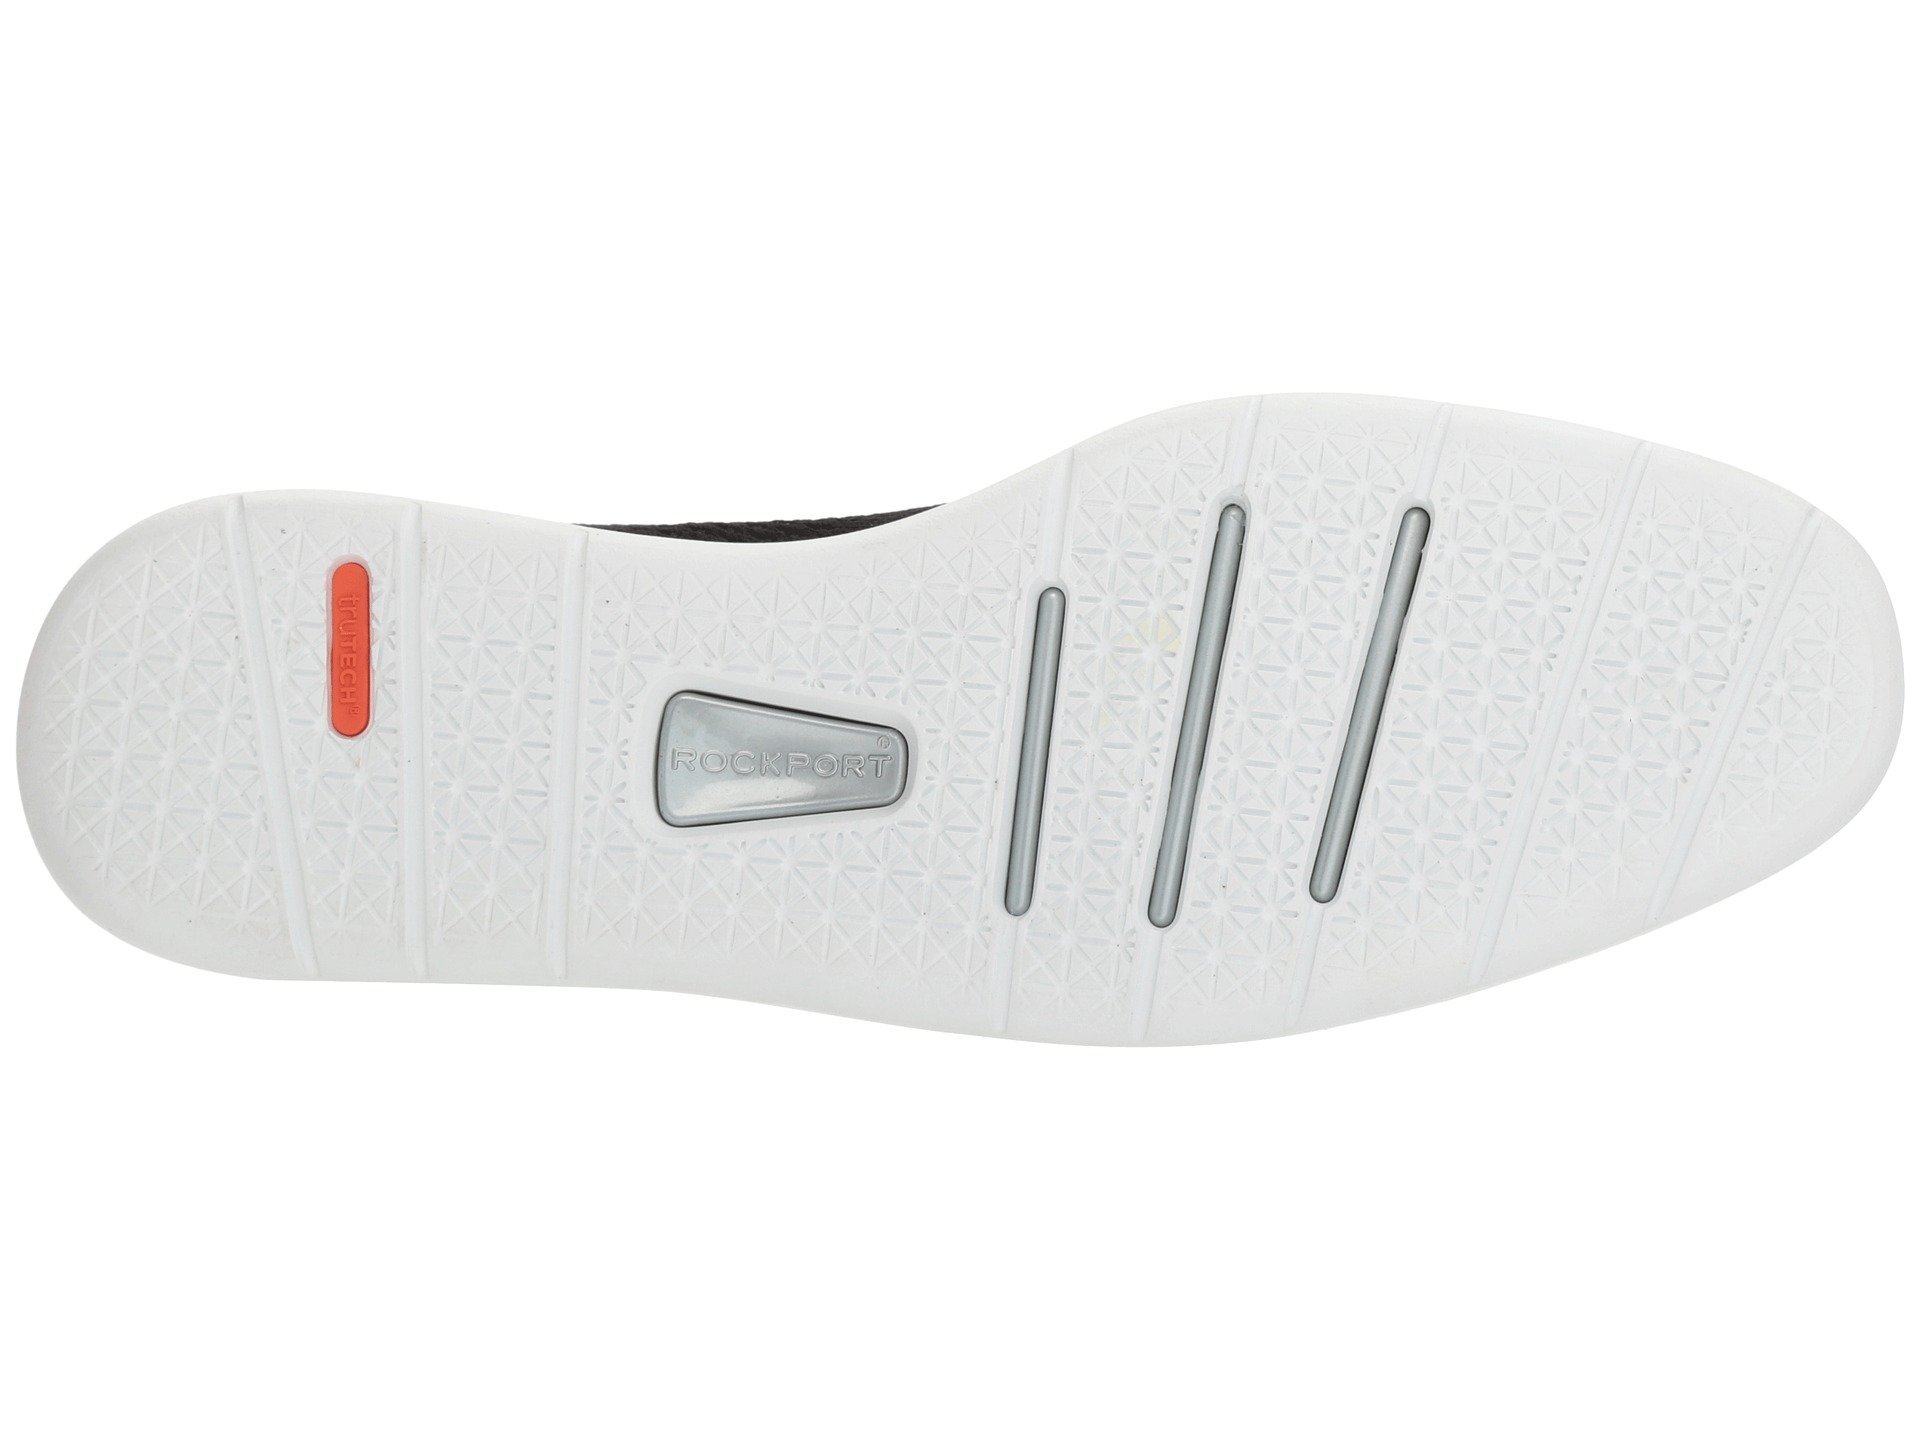circle: (621, 644, 977, 936)
quad: (621, 644, 977, 936)
text: (621, 644, 977, 936)
triangle: (621, 644, 977, 936), (1423, 526, 1569, 706), (1612, 555, 1761, 717)
